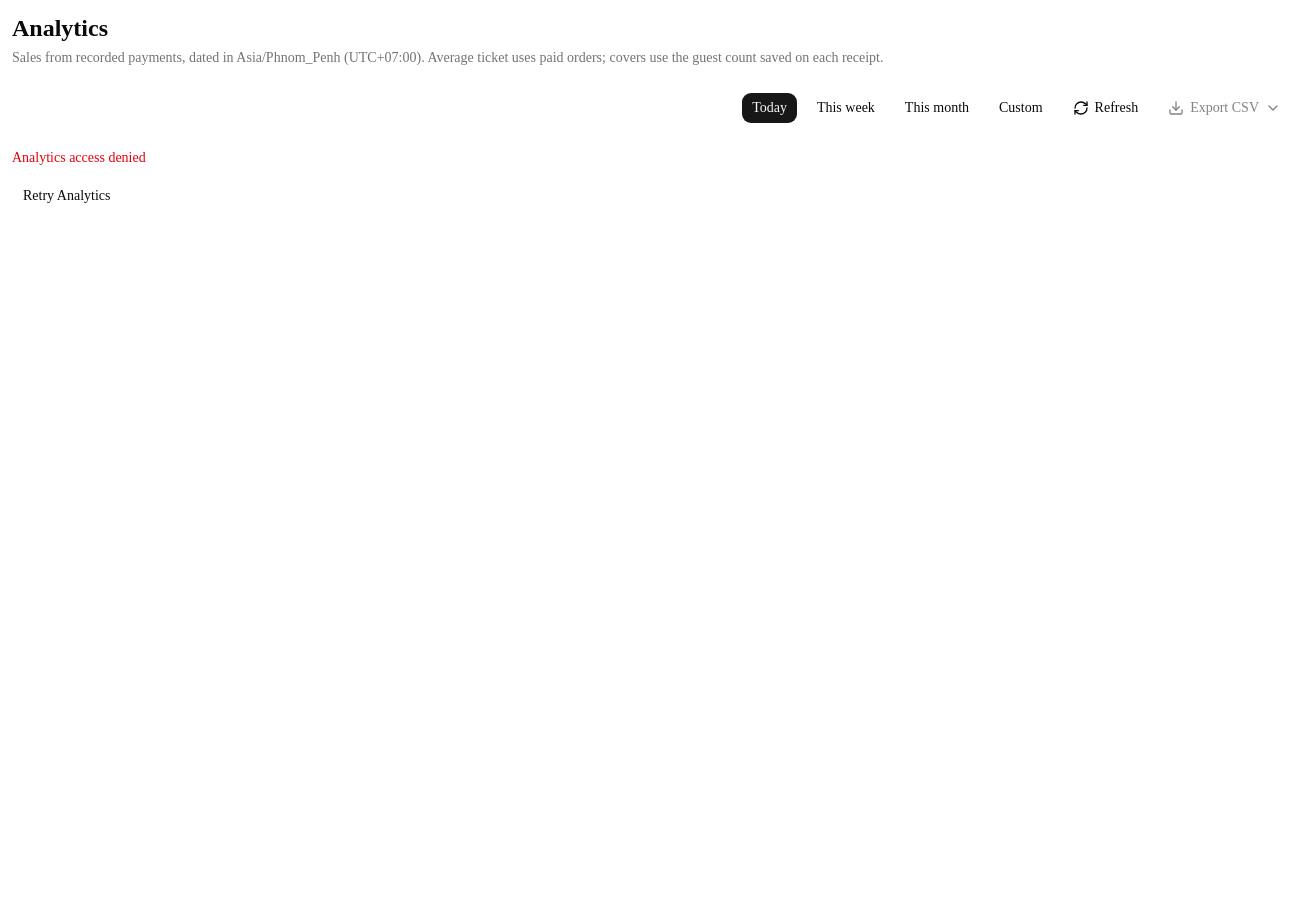
Test: displays load failures and retries instead of falling back to demo data
Check: the message reads "Analytics access denied", box 12,150 -> 146,165
Check: the text "Net sales" is not shown
Click the button "Retry Analytics".
click(67, 196)  # box 12,180 -> 122,212
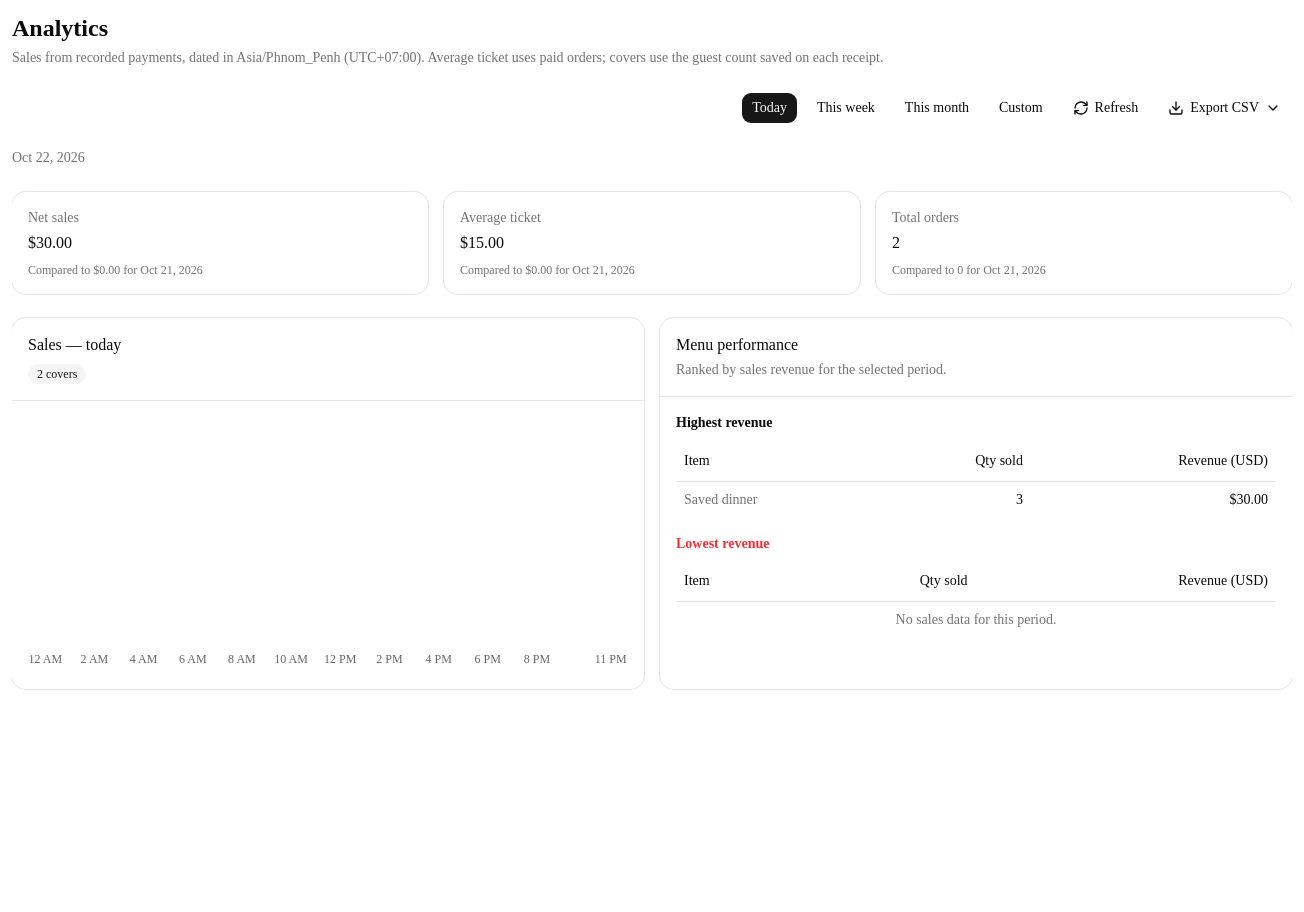
Check: the text "Saved dinner" is shown, box 676,481 -> 883,518
Check: the message "Analytics access denied" is gone
